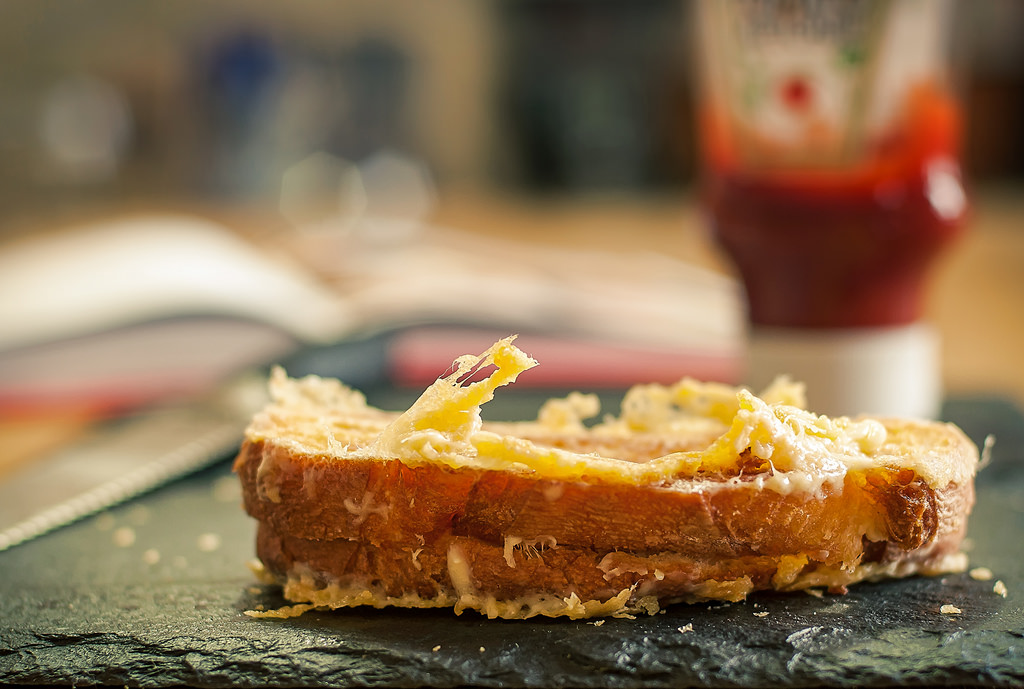slice of bread: (232, 392, 981, 576)
